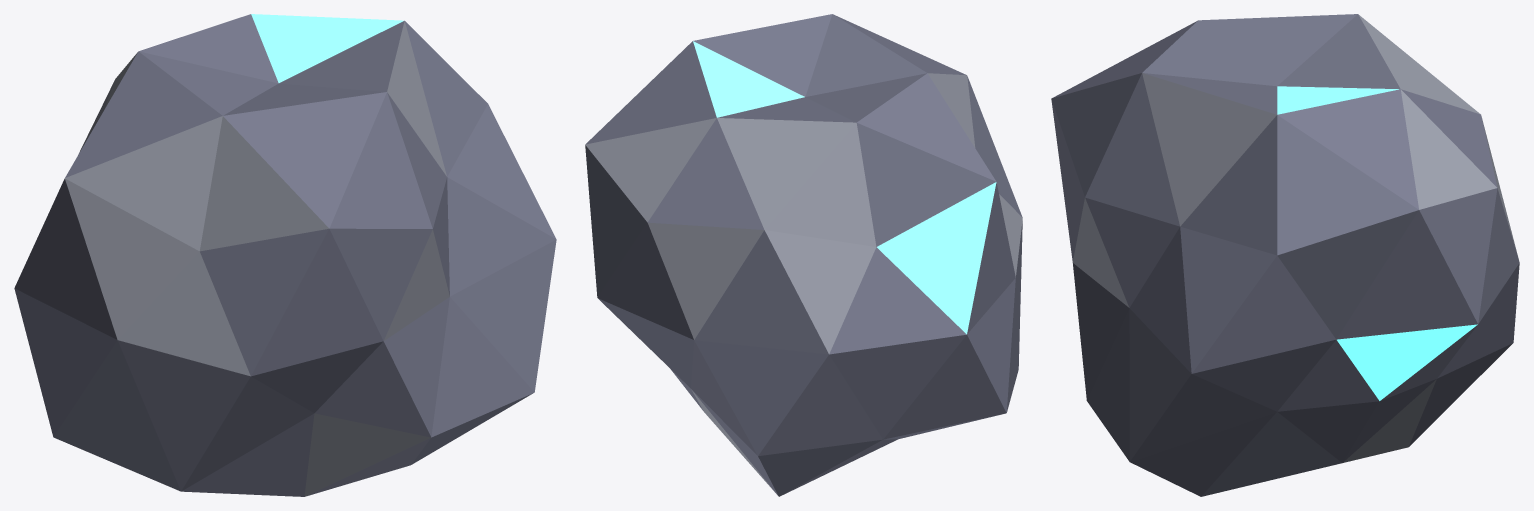
The model's file is asteroid_03.glb.
The picture shows the model from 3 angles, left to right: view 1: azimuth 30°, elevation 25°; view 2: azimuth 150°, elevation 25°; view 3: azimuth 270°, elevation 25°; orthographic projection. The views are drawn at different scales.
Parts seen in each view (by area): view 1: asteroid_03; view 2: asteroid_03; view 3: asteroid_03.
Part boxes in pixels (left/top/right/bottom): asteroid_03: left=14, top=14, right=556, bottom=496; asteroid_03: left=585, top=14, right=1022, bottom=496; asteroid_03: left=1051, top=14, right=1519, bottom=496.
Size of the model in its own units: 2.61 by 2.29 by 2.37.
